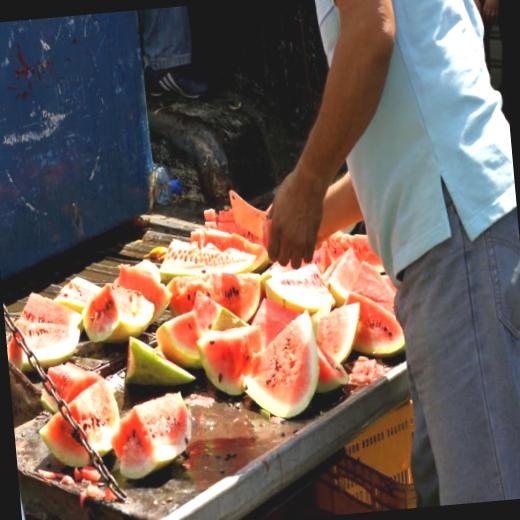Cherry: (0, 189, 415, 510), (236, 304, 324, 415)
